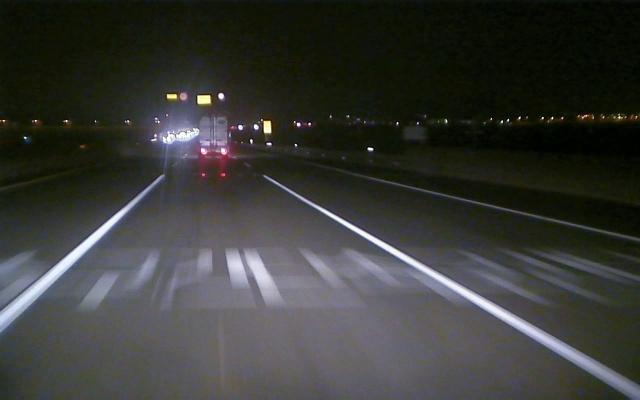lane: (269, 178, 637, 396), (2, 178, 160, 332), (379, 178, 640, 243)
